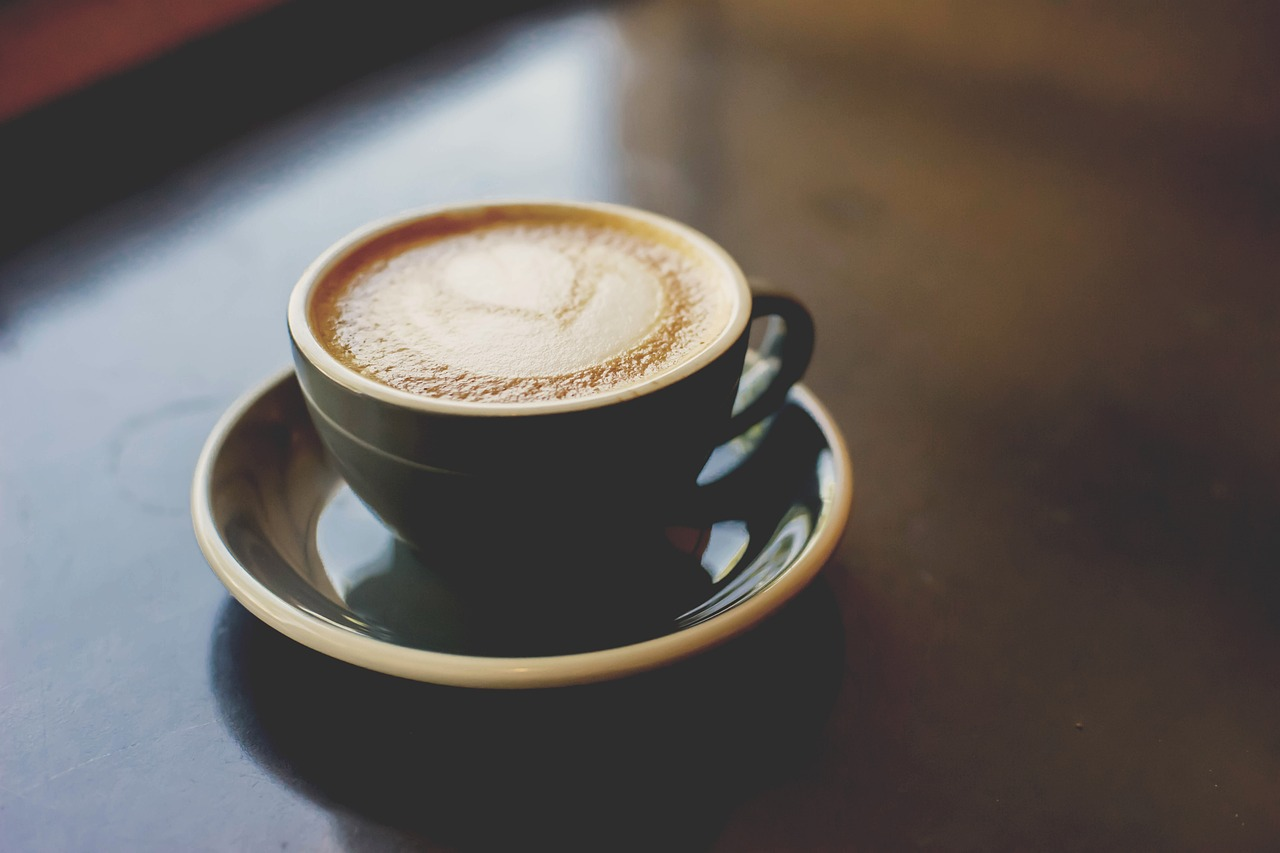mug: (244, 186, 854, 567)
